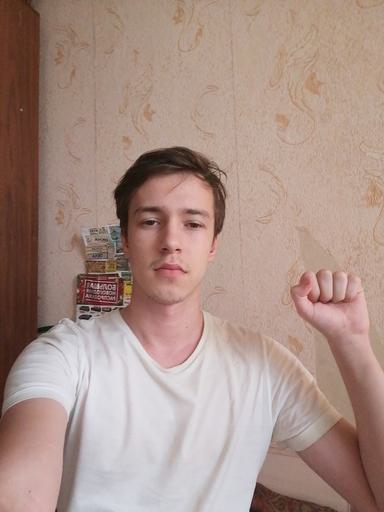fist: (288, 267, 373, 336)
